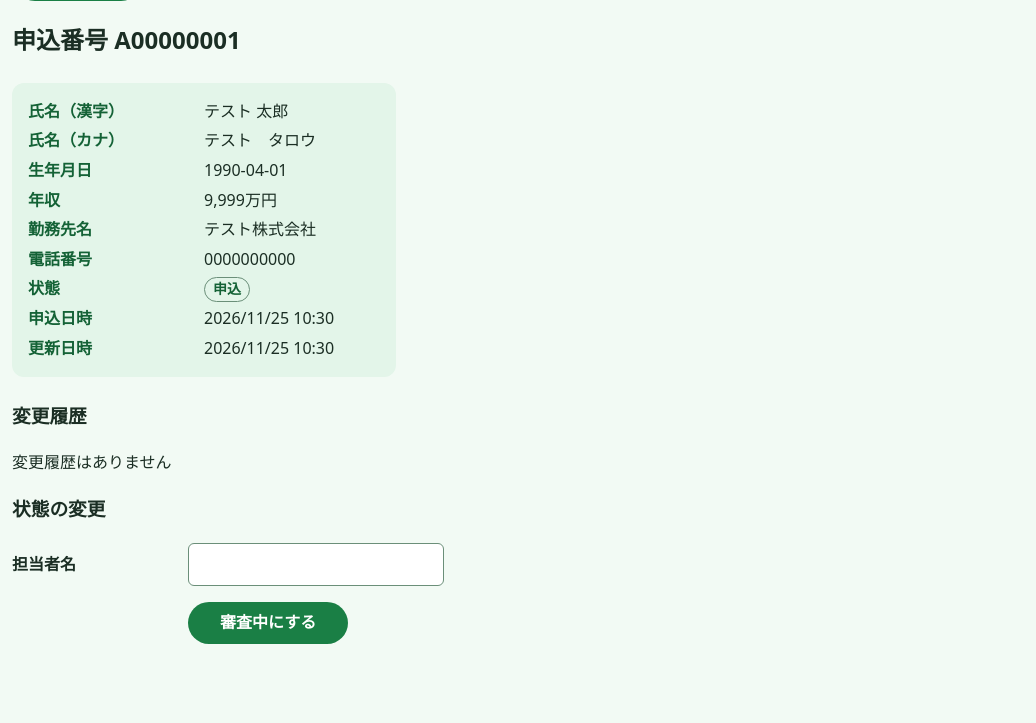
「審査中にする」が成功したら「審査中に変更しました」にフォーカスを移し、承認・否決の操作にはフォーカスがない
Type "テスト 担当A" into the field labelled "担当者名" at (316, 565), box [188, 543, 444, 586]
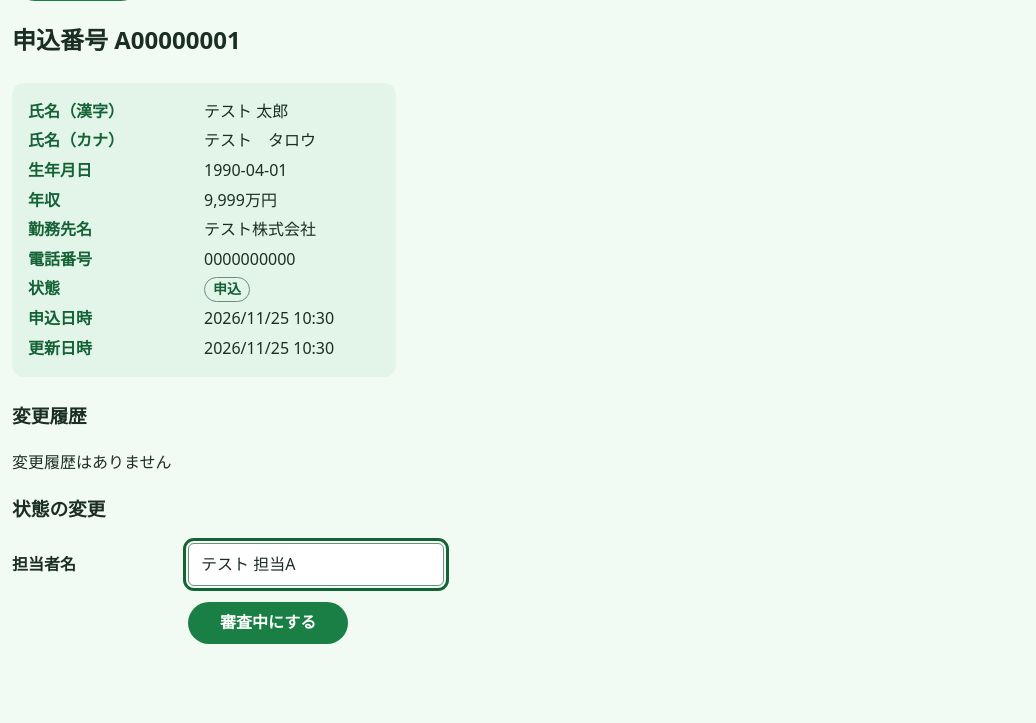
Click the button "審査中にする" at (268, 623), box [188, 602, 348, 644]
(page scrolled)
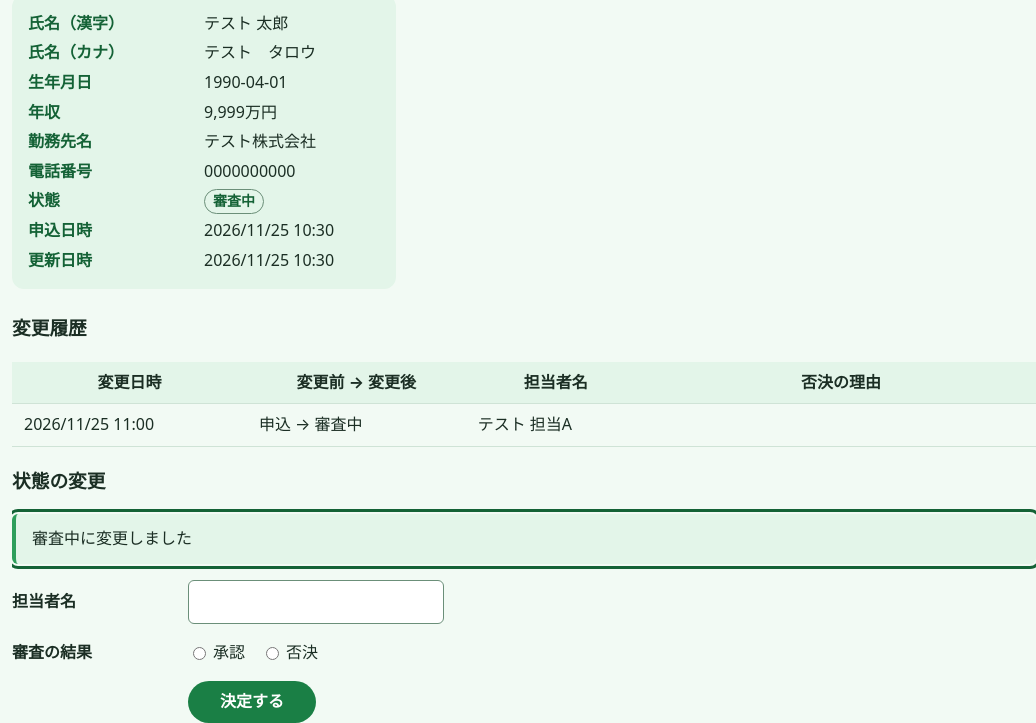
Check: the message reads "審査中に変更しました", box [12, 514, 1035, 564]
